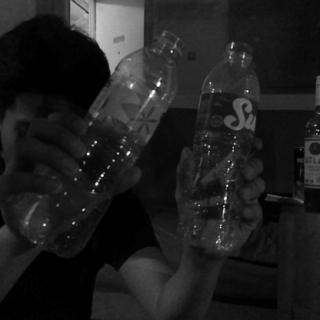plastic_bottles: (16, 28, 182, 243), (188, 40, 262, 248)
